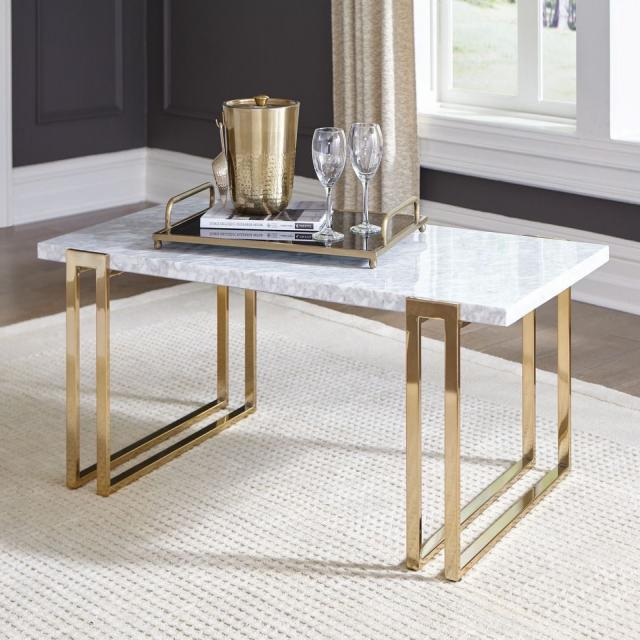table: (26, 125, 624, 620)
